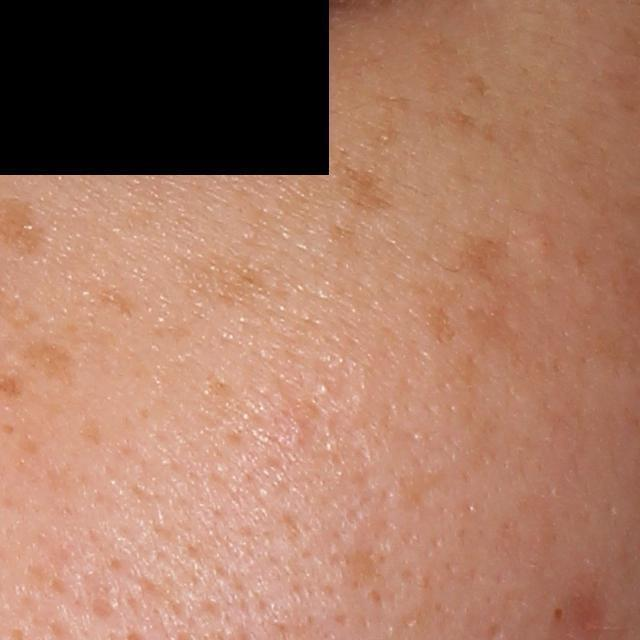comedo: (551, 603, 568, 625)
melasma: (319, 135, 406, 221), (178, 246, 271, 312), (460, 290, 528, 364), (451, 228, 512, 296), (13, 334, 84, 388), (421, 102, 503, 146), (366, 87, 417, 152), (88, 274, 136, 321), (465, 73, 493, 98)
